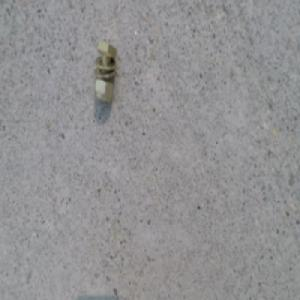BoltNutSet: (84, 31, 109, 97)
